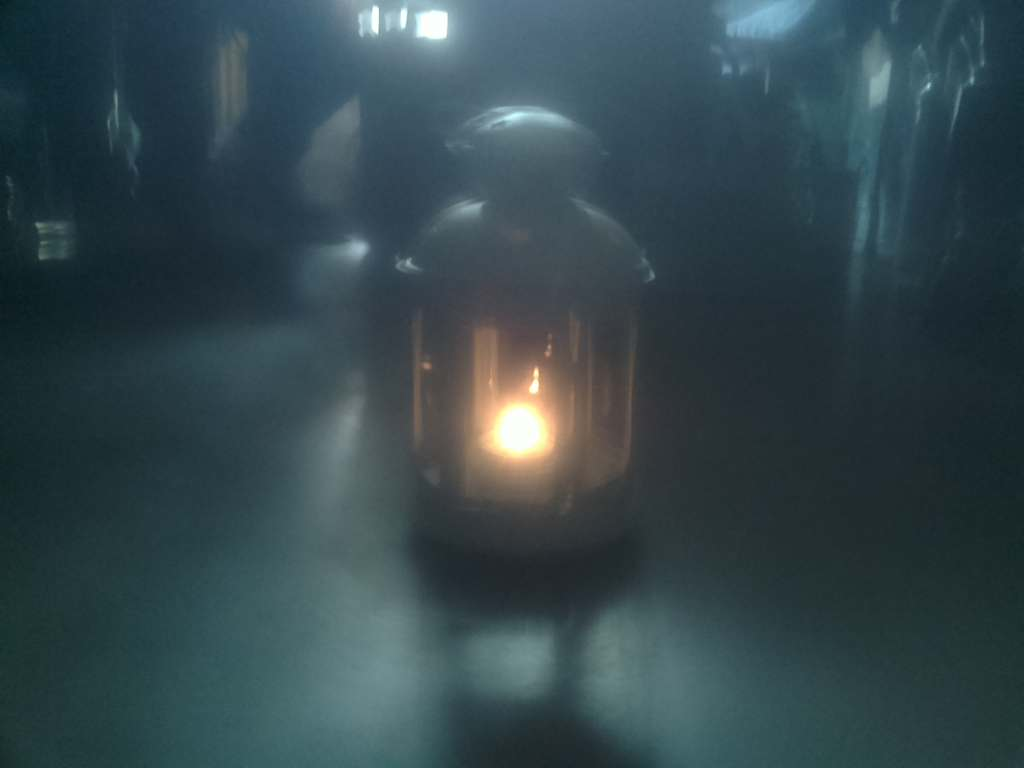fire: (467, 391, 604, 488)
